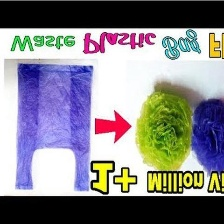plastic_bag: (11, 61, 96, 193)
